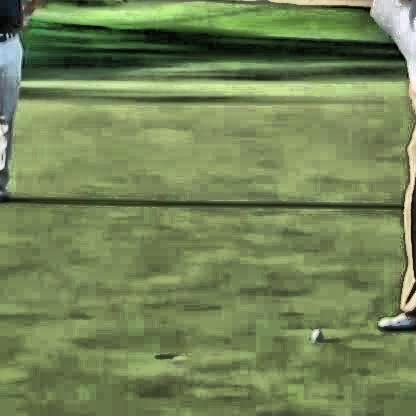golfball: (307, 324, 320, 340)
